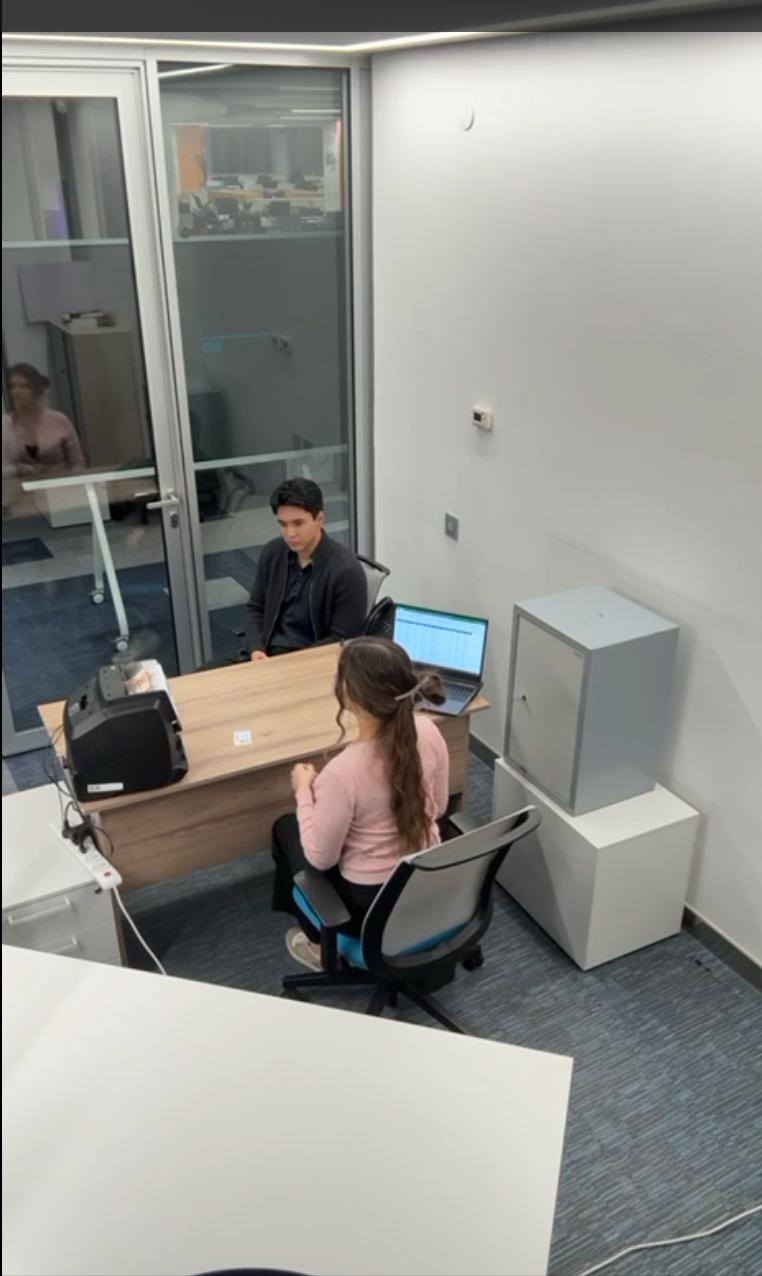cash_stack: (126, 663, 154, 704)
counter: (58, 657, 188, 798)
key_in: (506, 684, 540, 718)
screen_on: (397, 626, 487, 671)
